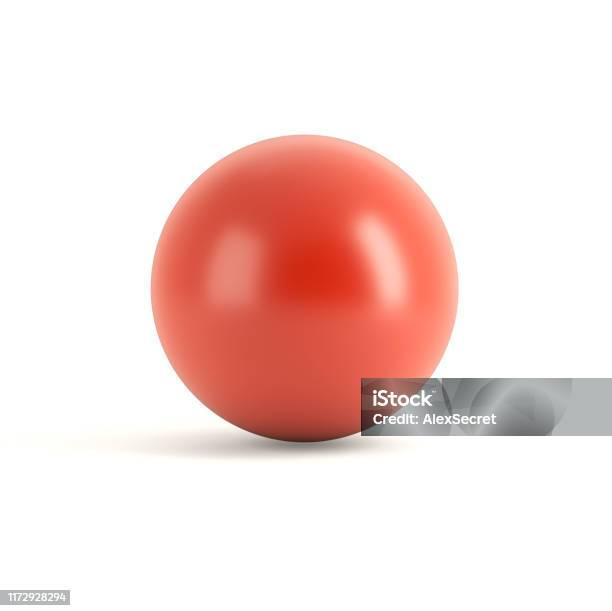Red_Ball: (137, 137, 478, 444)
